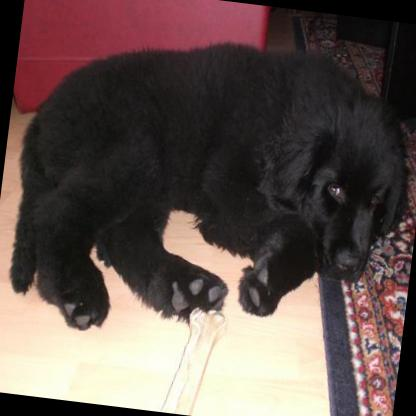Newfoundland: (0, 16, 416, 365)
